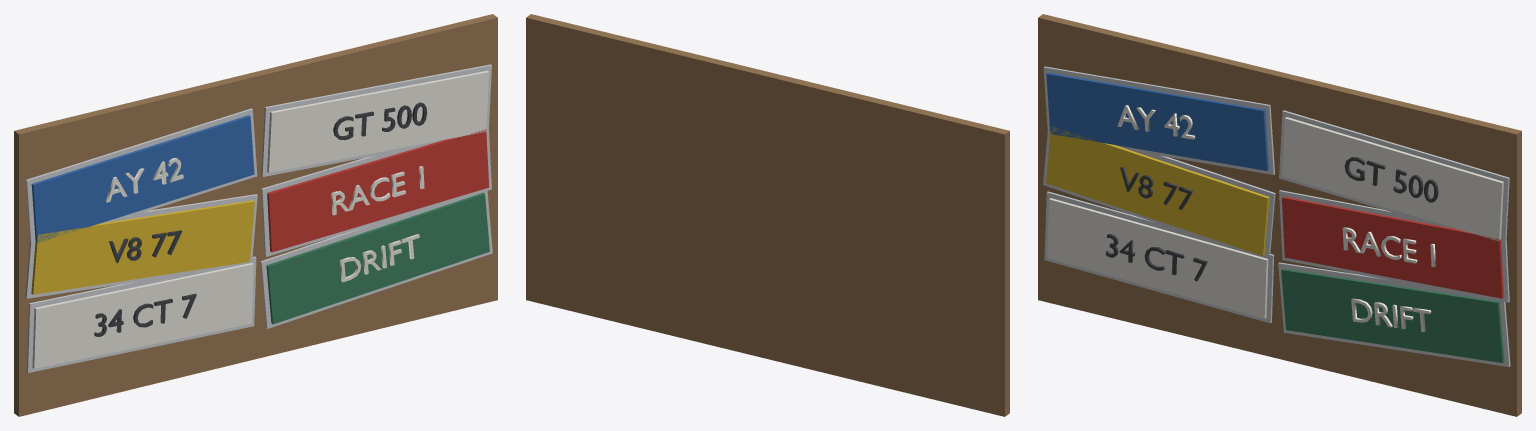
Rendered from license_plates.glb.
3 renders of one model, left to right at view 1: azimuth 30°, elevation 25°; view 2: azimuth 150°, elevation 25°; view 3: azimuth 330°, elevation 25°, orthographic.
Parts seen in each view (by area): view 1: license_plates; view 2: license_plates; view 3: license_plates.
Boxes of the visible parts, x1=… form: license_plates: x1=14, y1=14, x2=497, y2=416; license_plates: x1=526, y1=14, x2=1009, y2=416; license_plates: x1=1038, y1=14, x2=1521, y2=416.
Bounding box in the file's own units: 1.1 × 0.62 × 0.038.
